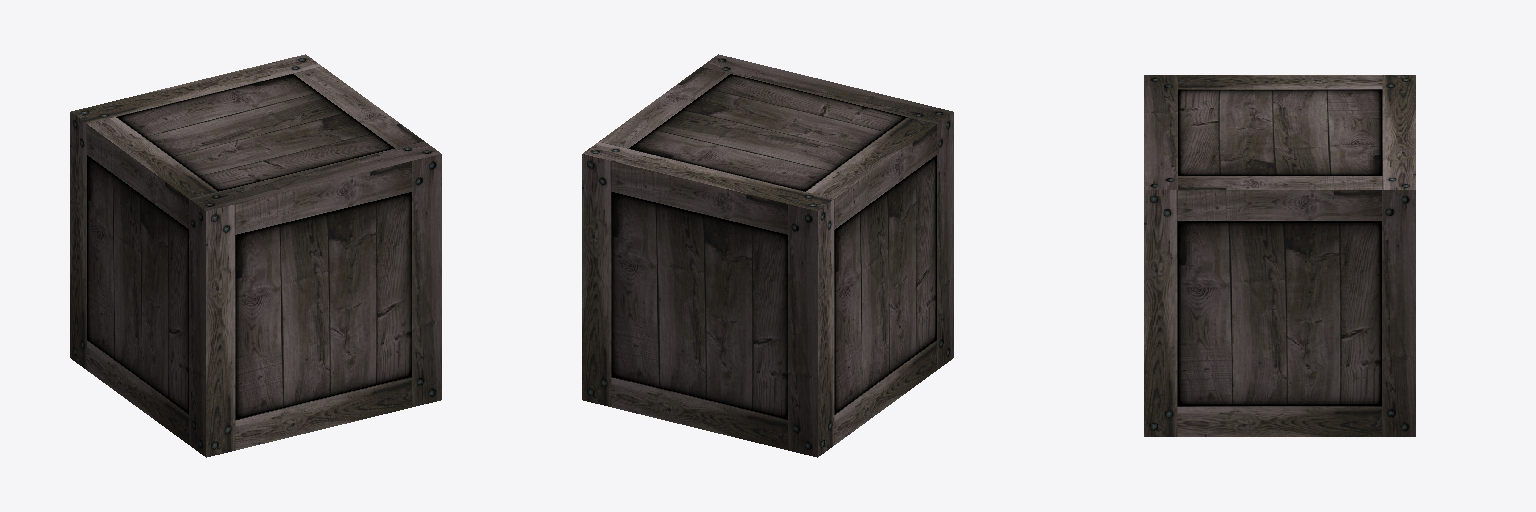
The picture shows the model from 3 angles: view 1: azimuth 30°, elevation 25°; view 2: azimuth 150°, elevation 25°; view 3: azimuth 270°, elevation 25°; orthographic projection.
Visible parts, largest first — view 1: Cube_Cube.001; view 2: Cube_Cube.001; view 3: Cube_Cube.001.
Part boxes in pixels (x1,y1,x2,y2): Cube_Cube.001: (70, 54, 441, 457); Cube_Cube.001: (582, 54, 953, 457); Cube_Cube.001: (1144, 75, 1415, 436).
Size of the model in its own units: 2 by 2 by 2.
Materials: 1 (1 with a texture image).